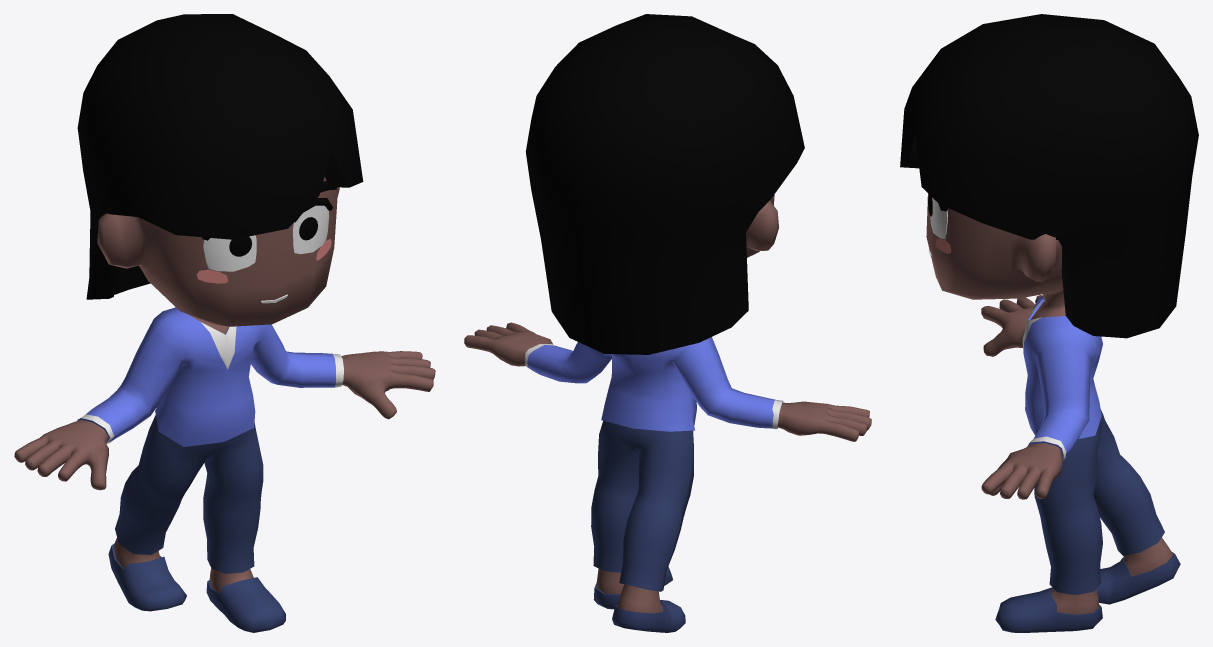
The model's file is Personaje_juzgado.fbx.
3 views of the same model, side by side, from view 1: azimuth 30°, elevation 25°; view 2: azimuth 150°, elevation 25°; view 3: azimuth 270°, elevation 25° (orthographic). The views are drawn at different scales.
Parts seen in each view (by area): view 1: hair6.005, body.026, shirt3.020, pants1.014, shoes2.007, eyesbase1.004, eyes6.014; view 2: hair6.005, pants1.014, shirt3.020, body.026, shoes2.007; view 3: hair6.005, body.026, pants1.014, shirt3.020, shoes2.007, eyesbase1.004.
Boxes of the visible parts, x1,y1,x2,y2 form: hair6.005: (77,14,363,299); body.026: (14,177,435,592); shirt3.020: (77,307,343,446); pants1.014: (115,415,263,573); shoes2.007: (108,543,285,632); eyesbase1.004: (202,198,333,271); eyes6.014: (229,217,317,256); hair6.005: (525,14,804,354); pants1.014: (591,420,693,591); shirt3.020: (524,337,783,431); body.026: (464,194,871,613); shoes2.007: (593,566,685,632); hair6.005: (900,14,1198,338); body.026: (926,193,1172,614); pants1.014: (1034,410,1164,594); shirt3.020: (1022,296,1102,460); shoes2.007: (995,551,1180,632); eyesbase1.004: (930,197,948,239).
Size of the model in its own units: 128 by 177 by 82.34.
